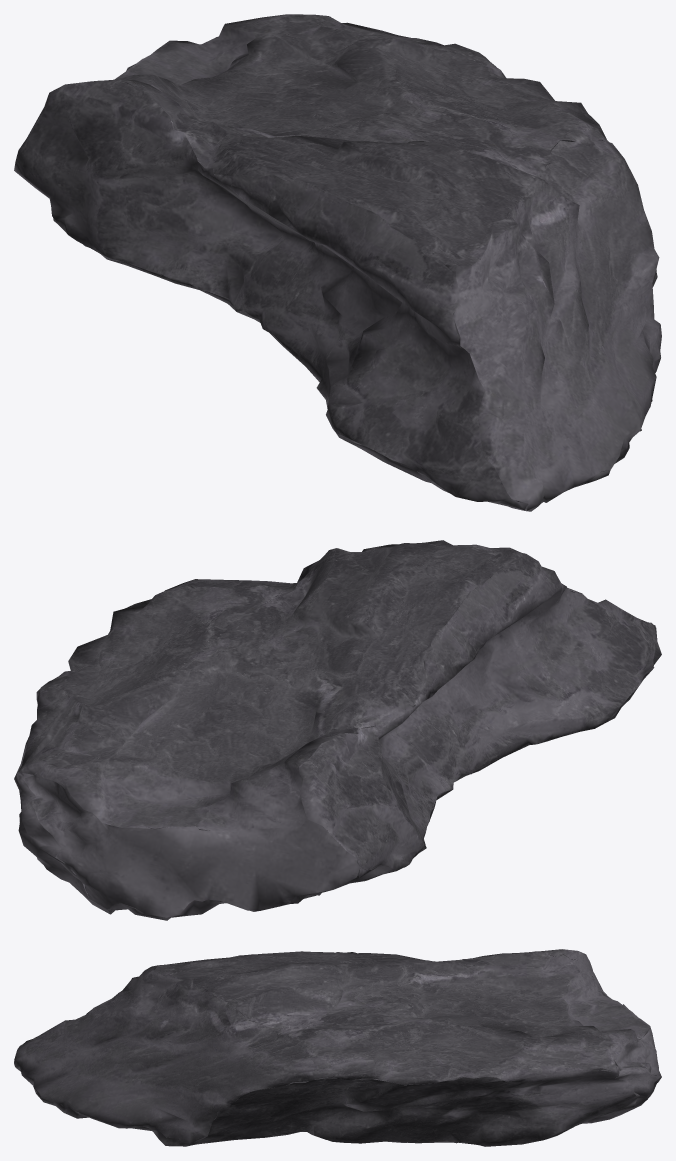
The model's file is ph_rock_b.gltf.
3 renders of one model, top to bottom at view 1: azimuth 30°, elevation 25°; view 2: azimuth 150°, elevation 25°; view 3: azimuth 270°, elevation 25°, orthographic. The views are drawn at different scales.
Parts seen in each view (by area): view 1: ph_rock_b; view 2: ph_rock_b; view 3: ph_rock_b.
Boxes of the visible parts, x1,y1,x2,y2 form: ph_rock_b: [14, 14, 661, 511]; ph_rock_b: [14, 540, 661, 920]; ph_rock_b: [14, 949, 661, 1146].
Bounding box in the file's own units: 0.0741 × 0.0328 × 0.1449.
1 material, 1 textured.
